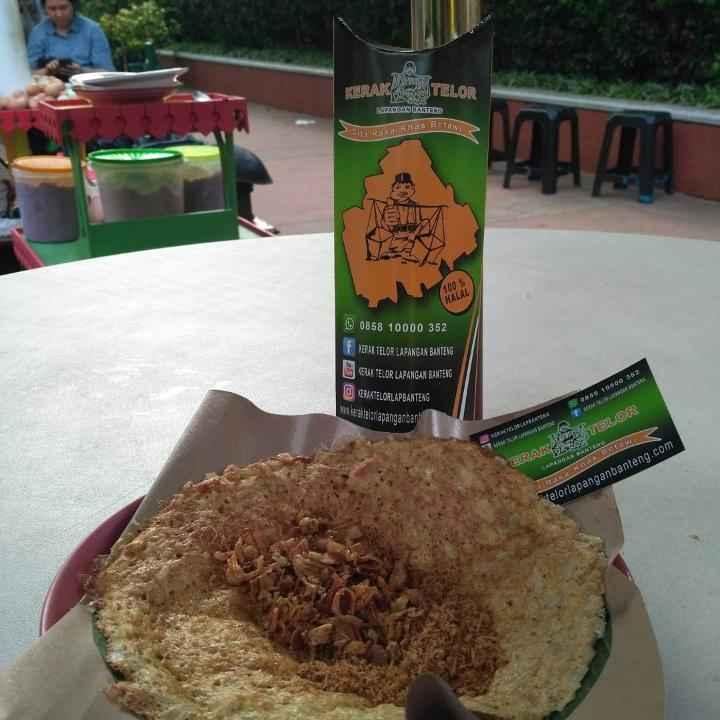kerak_telor: (97, 441, 605, 720)
